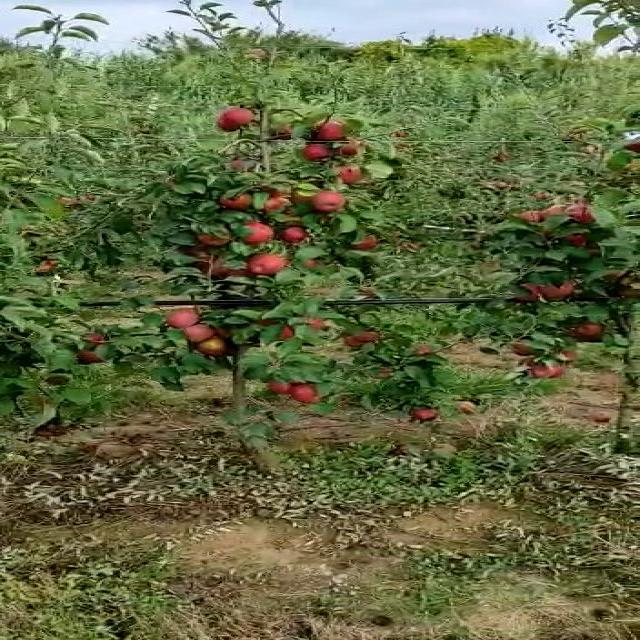100-_ripeness: (248, 248, 288, 279), (237, 220, 274, 246), (309, 191, 351, 213), (222, 187, 262, 210), (540, 278, 575, 303), (564, 321, 607, 341), (520, 362, 569, 379), (292, 383, 332, 403), (266, 373, 306, 393), (216, 106, 248, 130), (338, 162, 369, 185), (296, 144, 333, 163), (509, 211, 555, 226), (309, 120, 340, 141), (164, 310, 202, 327), (260, 195, 293, 214), (568, 205, 596, 227), (344, 331, 382, 347), (177, 327, 214, 342), (193, 230, 225, 247), (536, 203, 571, 218), (512, 282, 544, 298), (334, 140, 362, 157), (202, 340, 233, 355), (509, 342, 546, 354), (356, 233, 382, 250), (413, 407, 442, 421), (80, 352, 111, 363)
